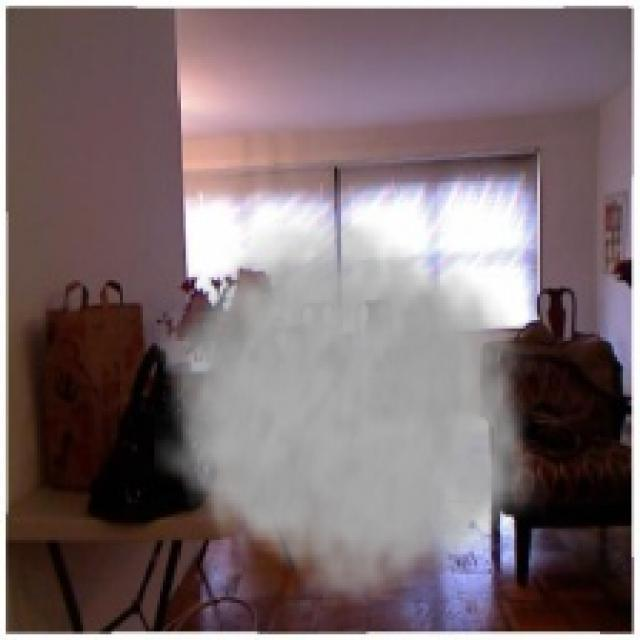Smoke: (154, 200, 552, 614)
